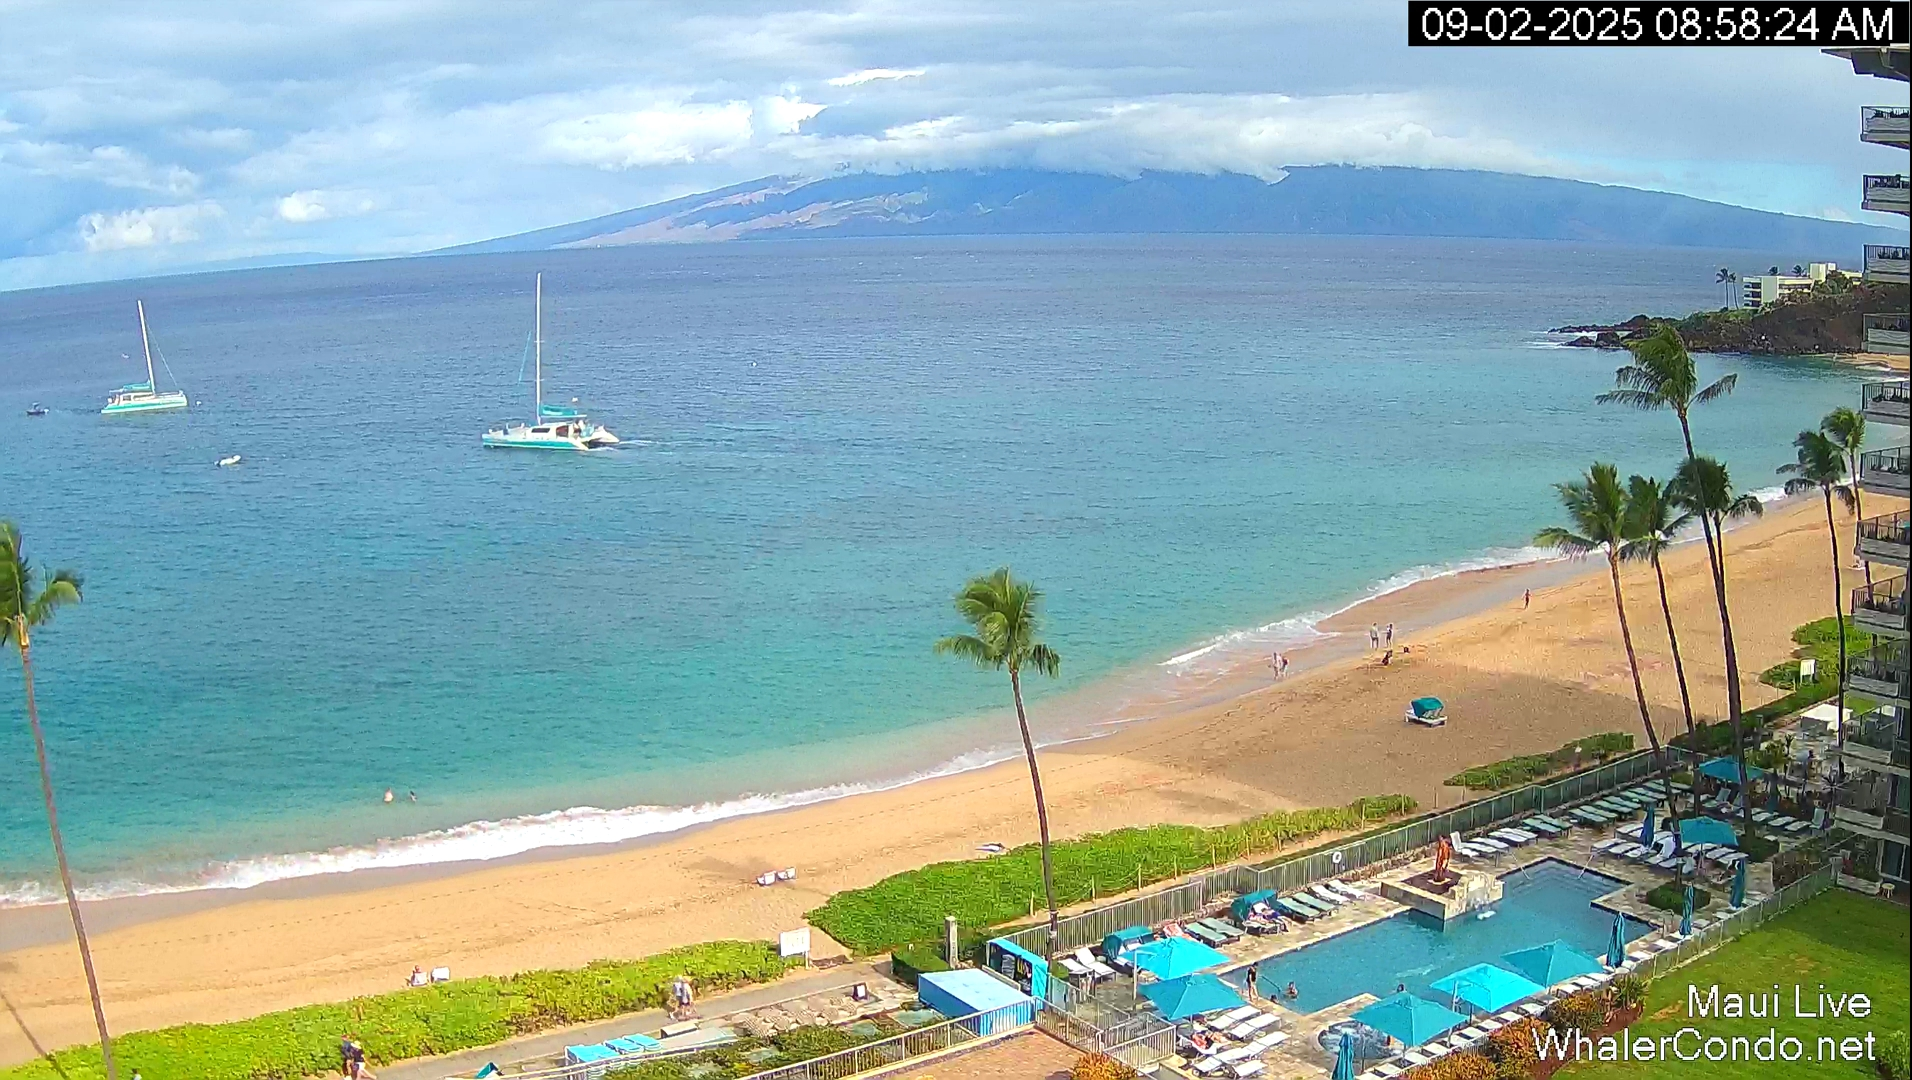boat: (481, 272, 620, 451), (101, 299, 188, 415), (468, 1032, 640, 1080), (513, 418, 621, 451), (563, 1032, 640, 1065), (1404, 697, 1447, 728), (26, 402, 49, 415)
person: (340, 1034, 354, 1078), (1246, 965, 1259, 1002), (410, 965, 428, 986), (1271, 651, 1283, 680), (1522, 588, 1532, 610), (1370, 622, 1380, 640), (1381, 650, 1393, 665), (1282, 658, 1289, 678), (1385, 623, 1393, 640), (131, 1068, 142, 1080), (409, 791, 418, 802)
